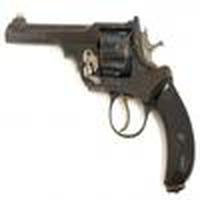gun: (6, 16, 194, 197)
